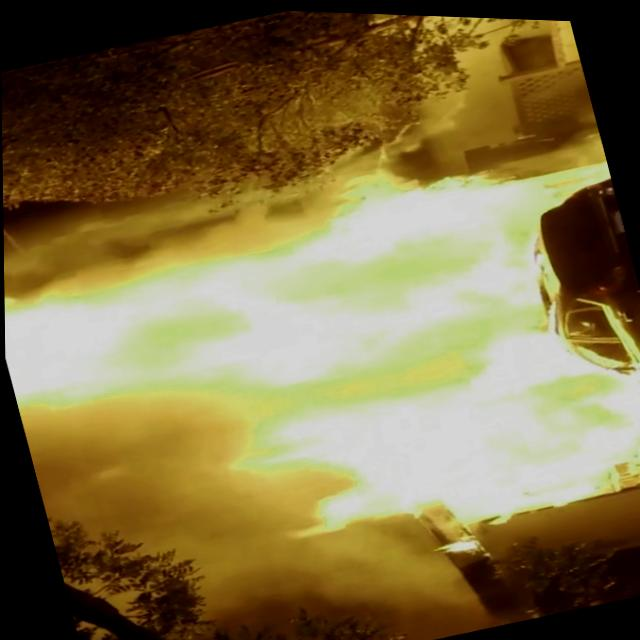fire: (2, 161, 564, 484), (216, 163, 592, 549), (262, 360, 640, 567)
smoke: (34, 427, 255, 598), (174, 517, 449, 640)
